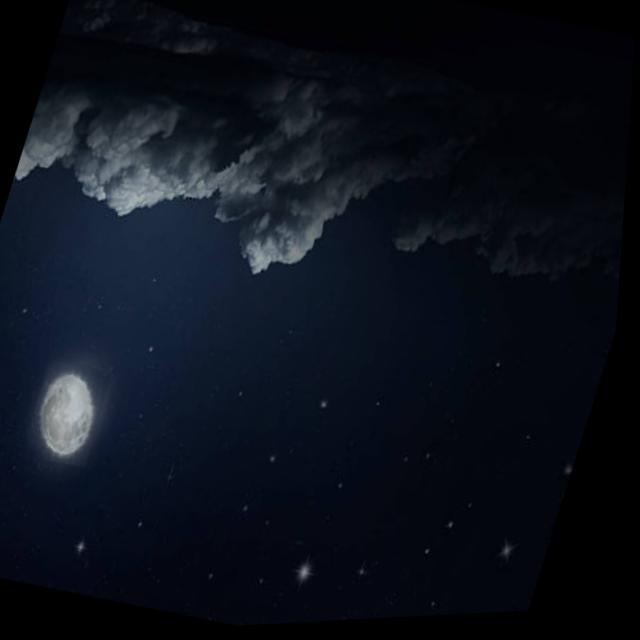moon: (27, 351, 124, 471)
